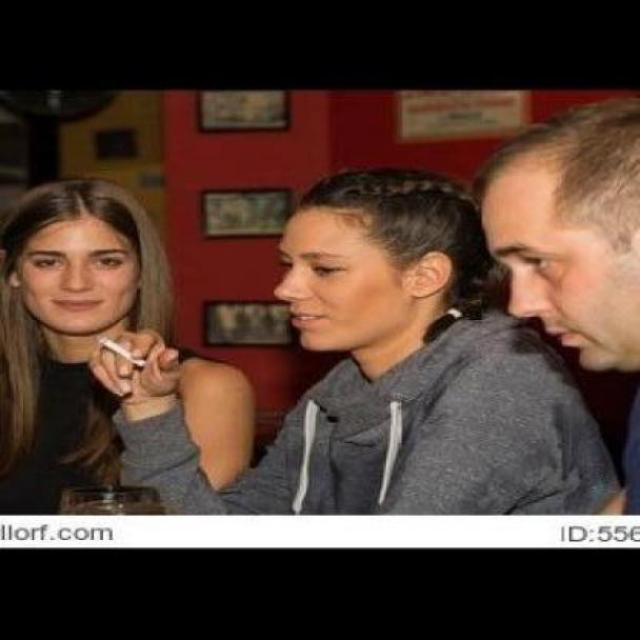rokok: (96, 329, 154, 381)
